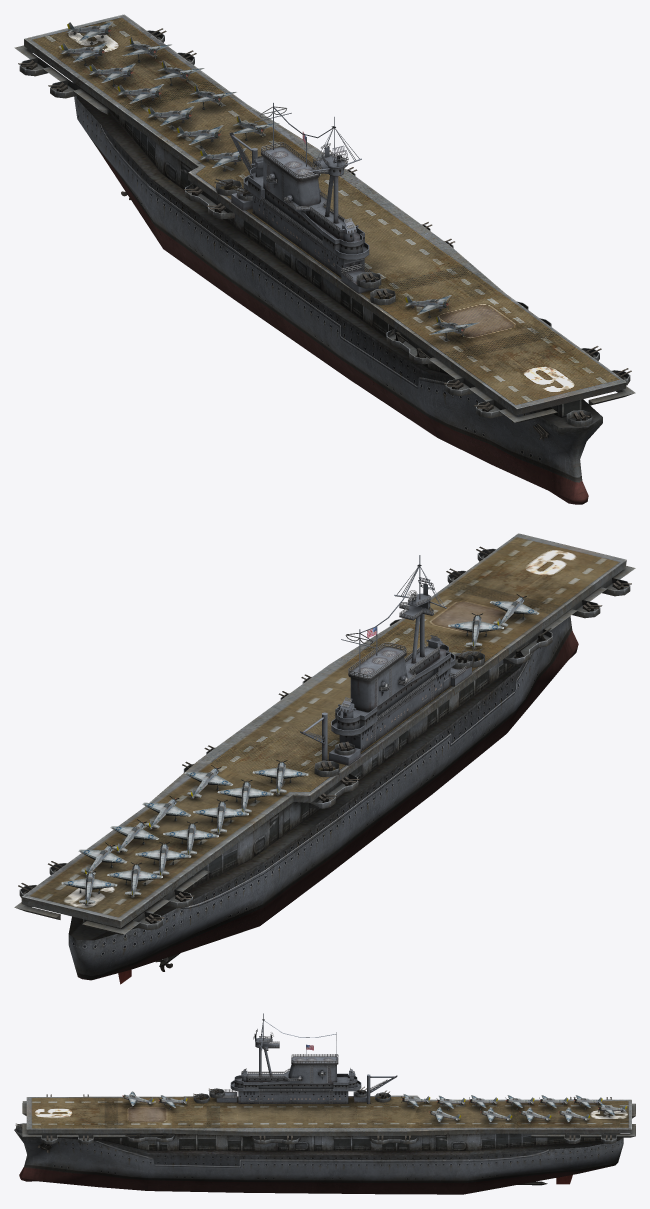
The model's file is USS_CV_6.FBX.
3 views of the same model, one above another, from view 1: azimuth 30°, elevation 25°; view 2: azimuth 150°, elevation 25°; view 3: azimuth 270°, elevation 25° (orthographic). The views are drawn at different scales.
Visible parts, largest first — view 1: cv_6; view 2: cv_6; view 3: cv_6.
Boxes of the visible parts, x1=… form: cv_6: x1=14, y1=14, x2=635, y2=504; cv_6: x1=14, y1=533, x2=635, y2=984; cv_6: x1=14, y1=1013, x2=635, y2=1194.
Size of the model in its own units: 4347 by 7143 by 25271.
2 materials, 2 textured.
